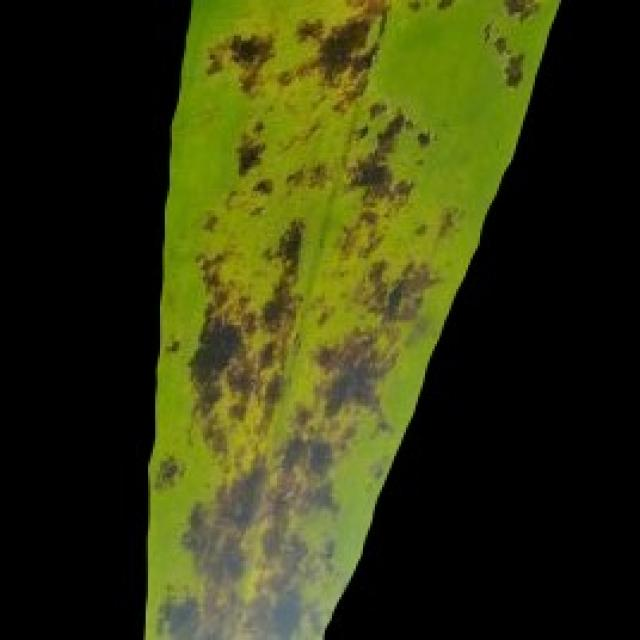mite: (401, 0, 544, 88), (153, 585, 201, 638), (146, 447, 189, 494), (346, 153, 392, 193), (224, 31, 267, 67), (232, 134, 265, 174), (150, 451, 181, 490), (499, 50, 525, 88), (499, 0, 540, 21), (158, 327, 184, 358), (251, 174, 272, 196), (162, 334, 181, 353), (413, 129, 430, 148), (432, 0, 454, 10)
